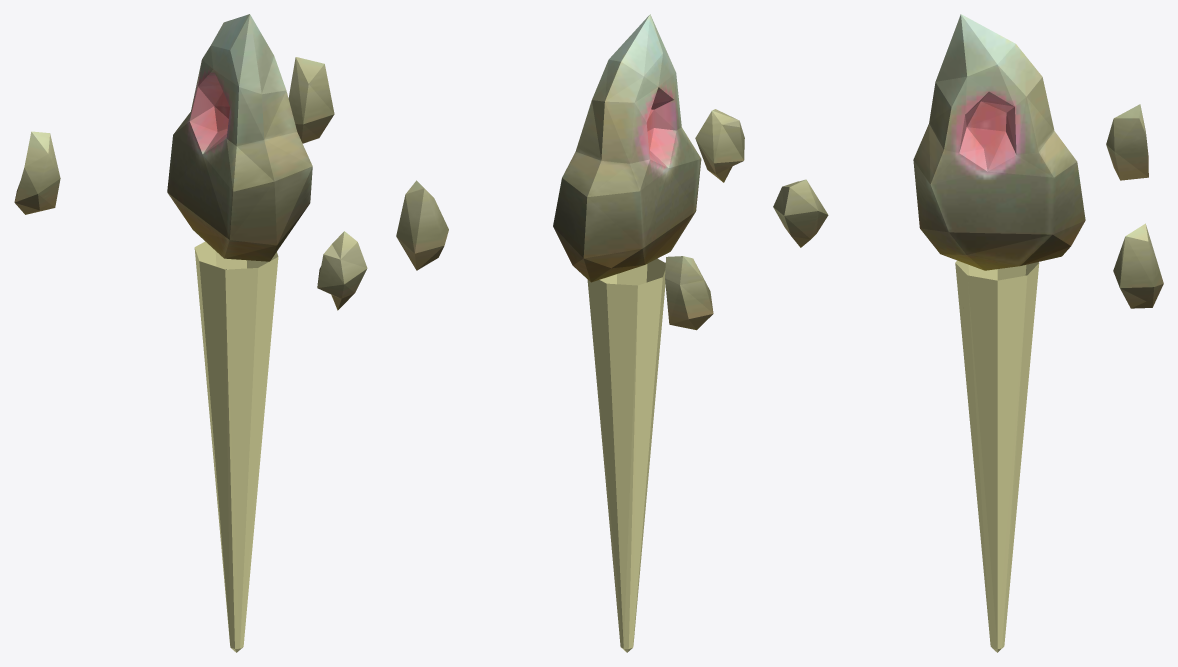
The model's file is obelisk.fbx.
3 renders of one model, left to right at view 1: azimuth 30°, elevation 25°; view 2: azimuth 150°, elevation 25°; view 3: azimuth 270°, elevation 25°, orthographic. The views are drawn at different scales.
Visible parts, largest first — view 1: obelisk, ray_low; view 2: obelisk, ray_low; view 3: obelisk, ray_low.
Part boxes in pixels (x1,y1,x2,y2): obelisk: [14, 14, 367, 310]; ray_low: [194, 241, 278, 652]; obelisk: [396, 14, 744, 330]; ray_low: [587, 258, 665, 652]; obelisk: [773, 14, 1163, 308]; ray_low: [955, 260, 1039, 652].
Size of the model in its own units: 29.92 by 58.98 by 32.82.
2 materials, 1 textured.
